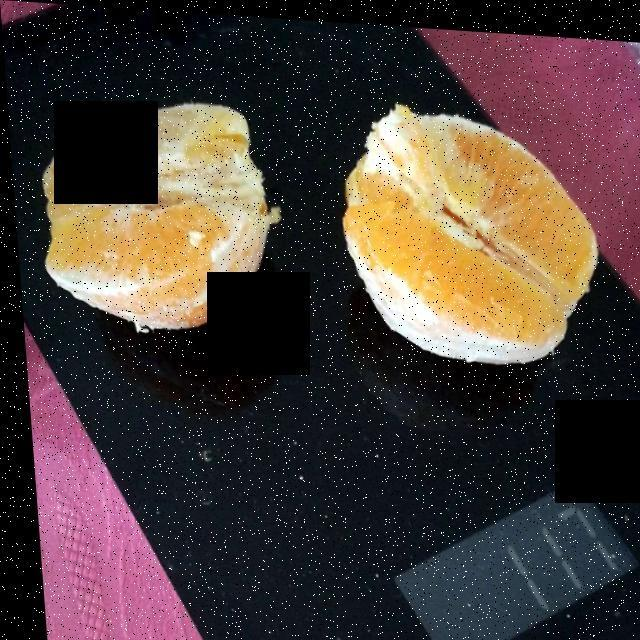orange: (39, 97, 581, 370)
